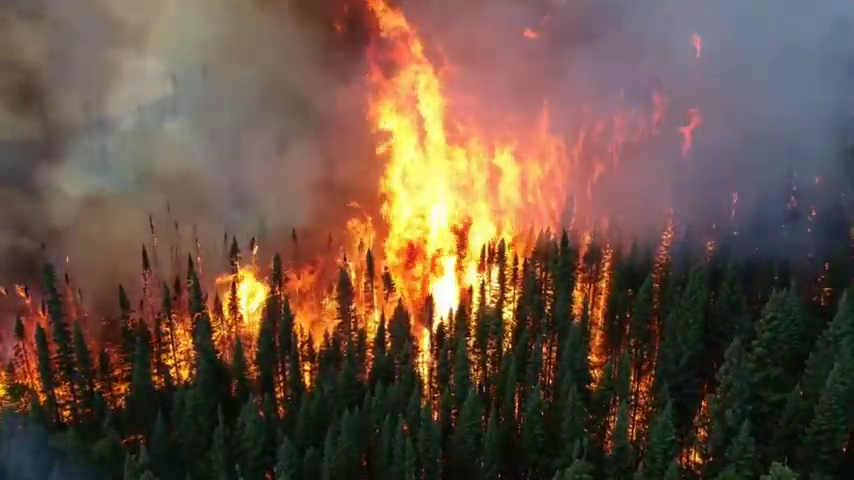forest_fire: (130, 215, 744, 441), (341, 0, 568, 330), (367, 0, 465, 172), (215, 247, 334, 344), (154, 287, 200, 382), (15, 285, 44, 385)
